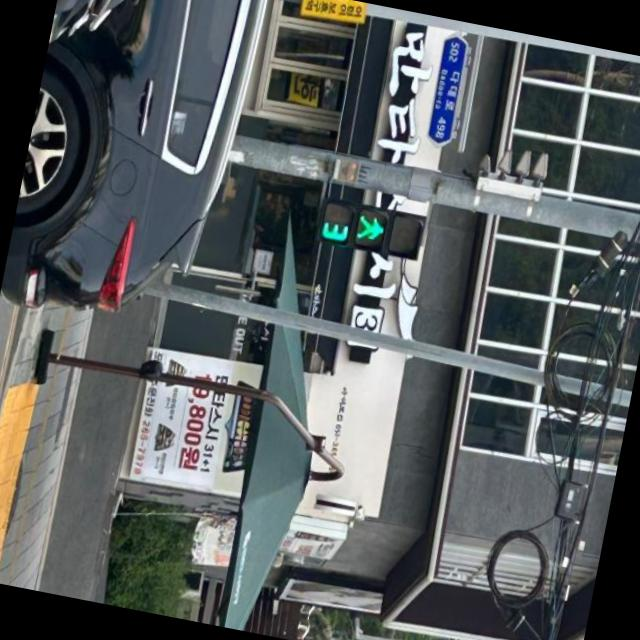green_light: (315, 201, 389, 251)
